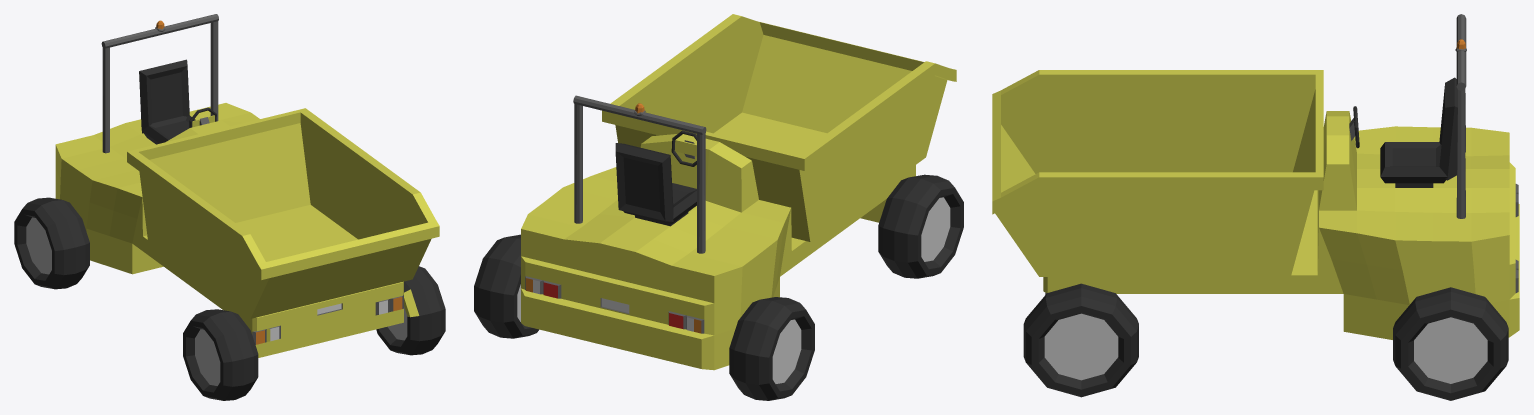
Rendered from DumpTruckColoured.fbx.
The picture shows the model from 3 angles, left to right: view 1: azimuth 30°, elevation 25°; view 2: azimuth 150°, elevation 25°; view 3: azimuth 270°, elevation 25°; orthographic projection. The views are drawn at different scales.
Parts seen in each view (by area): view 1: Cube.002; view 2: Cube.002; view 3: Cube.002.
Part boxes in pixels (x1,y1,x2,y2): Cube.002: (14,14,445,400); Cube.002: (474,14,963,400); Cube.002: (992,14,1519,400).
Bounding box in the file's own units: 592 × 524 × 842.
